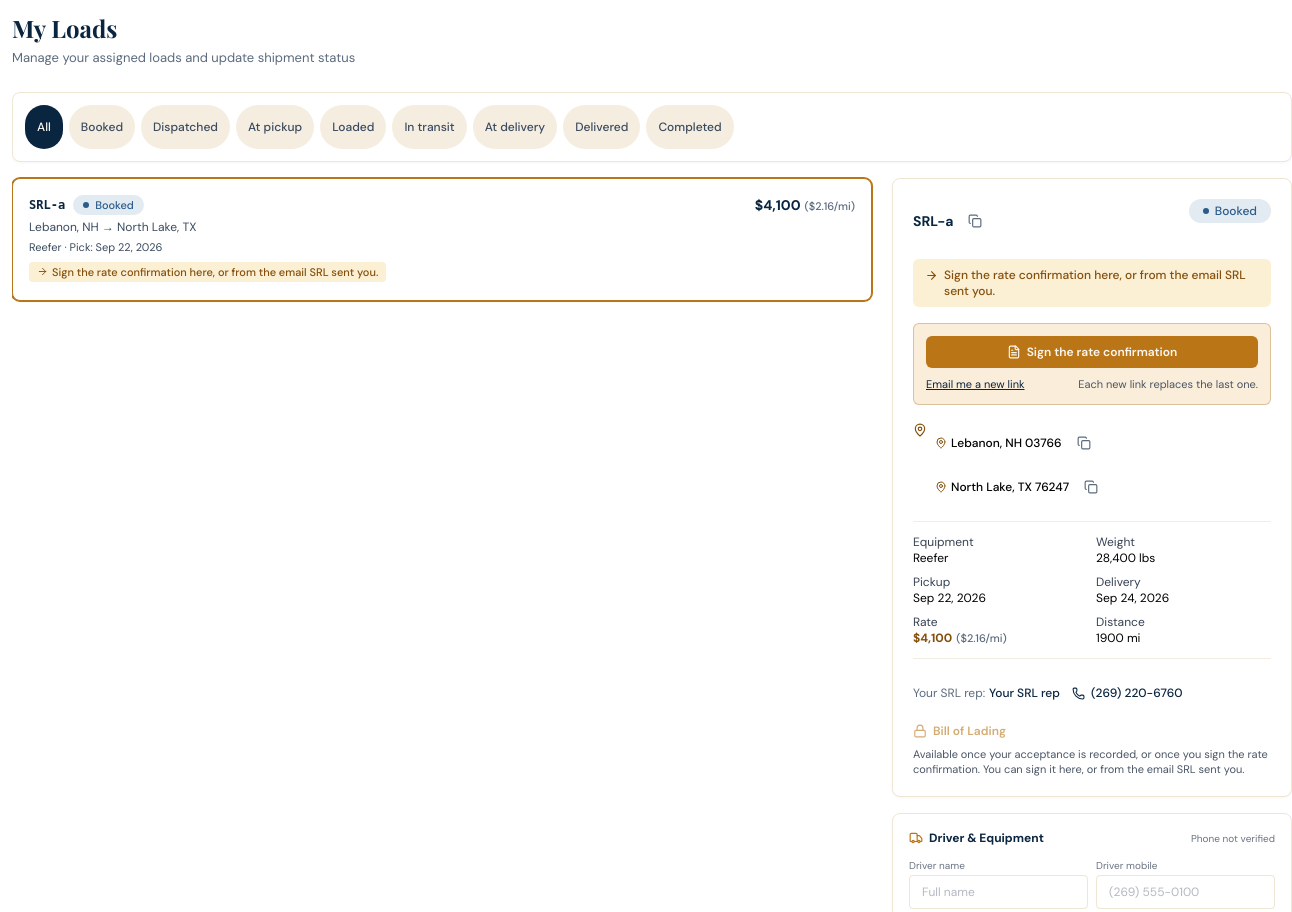
Test: E3 — signing from the portal, at RC_SENT and nowhere else › a refusal (rate-limited, RC not out yet) renders inline instead of vanishing
Click the button with test id "rc-sign-email".
click(975, 384)  # box x1=926 y1=376 x2=1024 y2=392
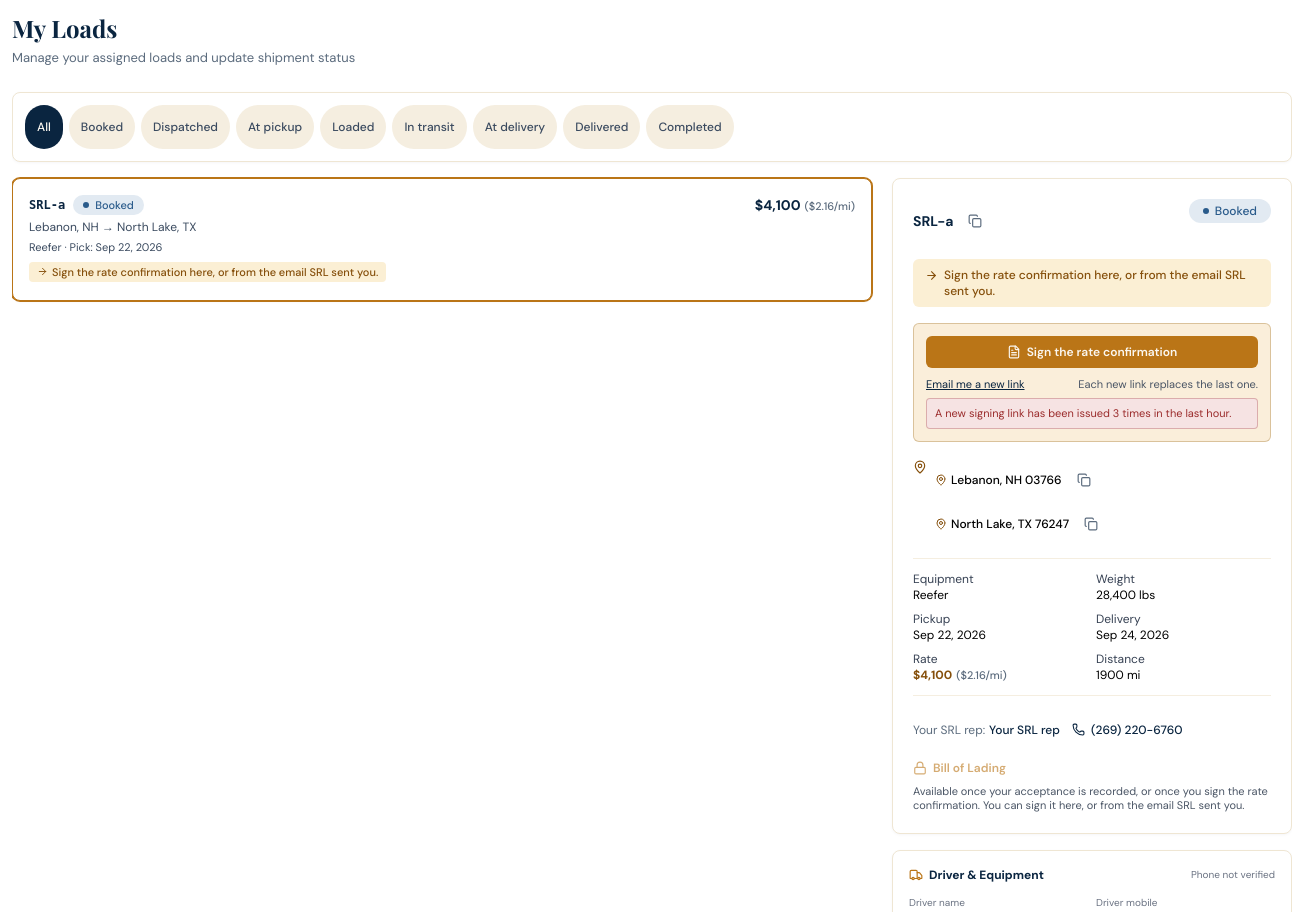
Check: the text with test id "rc-sign-email-result" shows "3 times in the last hour", box x1=935 y1=406 x2=1231 y2=420
